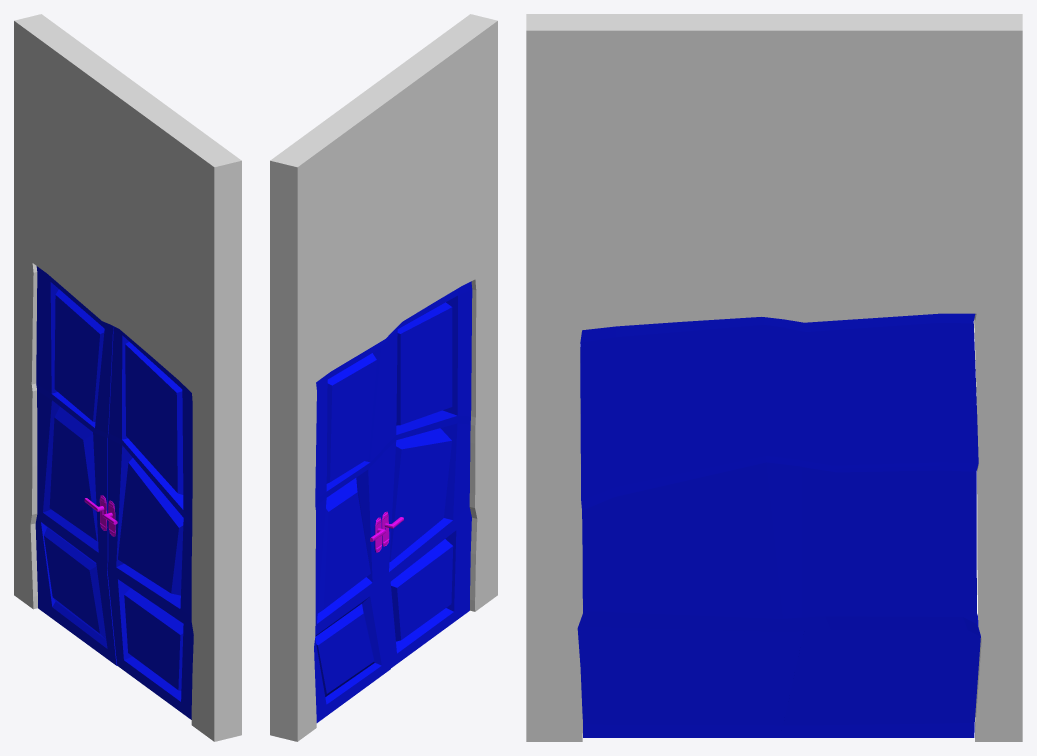
The model's file is wallDoor.fbx.
The picture shows the model from 3 angles, left to right: view 1: azimuth 30°, elevation 25°; view 2: azimuth 150°, elevation 25°; view 3: azimuth 270°, elevation 25°; orthographic projection. The views are drawn at different scales.
Parts seen in each view (by area): view 1: Box044, Object001, Box042; view 2: Box044, Object001, Box042; view 3: Box044, Object001, Box042.
Boxes of the visible parts, <box> form: Box044: <box>14,14,241,741</box>; Object001: <box>102,326,193,719</box>; Box042: <box>35,266,117,665</box>; Box044: <box>270,14,497,741</box>; Object001: <box>381,281,472,667</box>; Box042: <box>314,334,390,722</box>; Box044: <box>526,14,1022,741</box>; Object001: <box>577,317,803,737</box>; Box042: <box>780,313,980,737</box>.
Bounding box in the file's own units: 0.2253 × 4 × 2.53.
